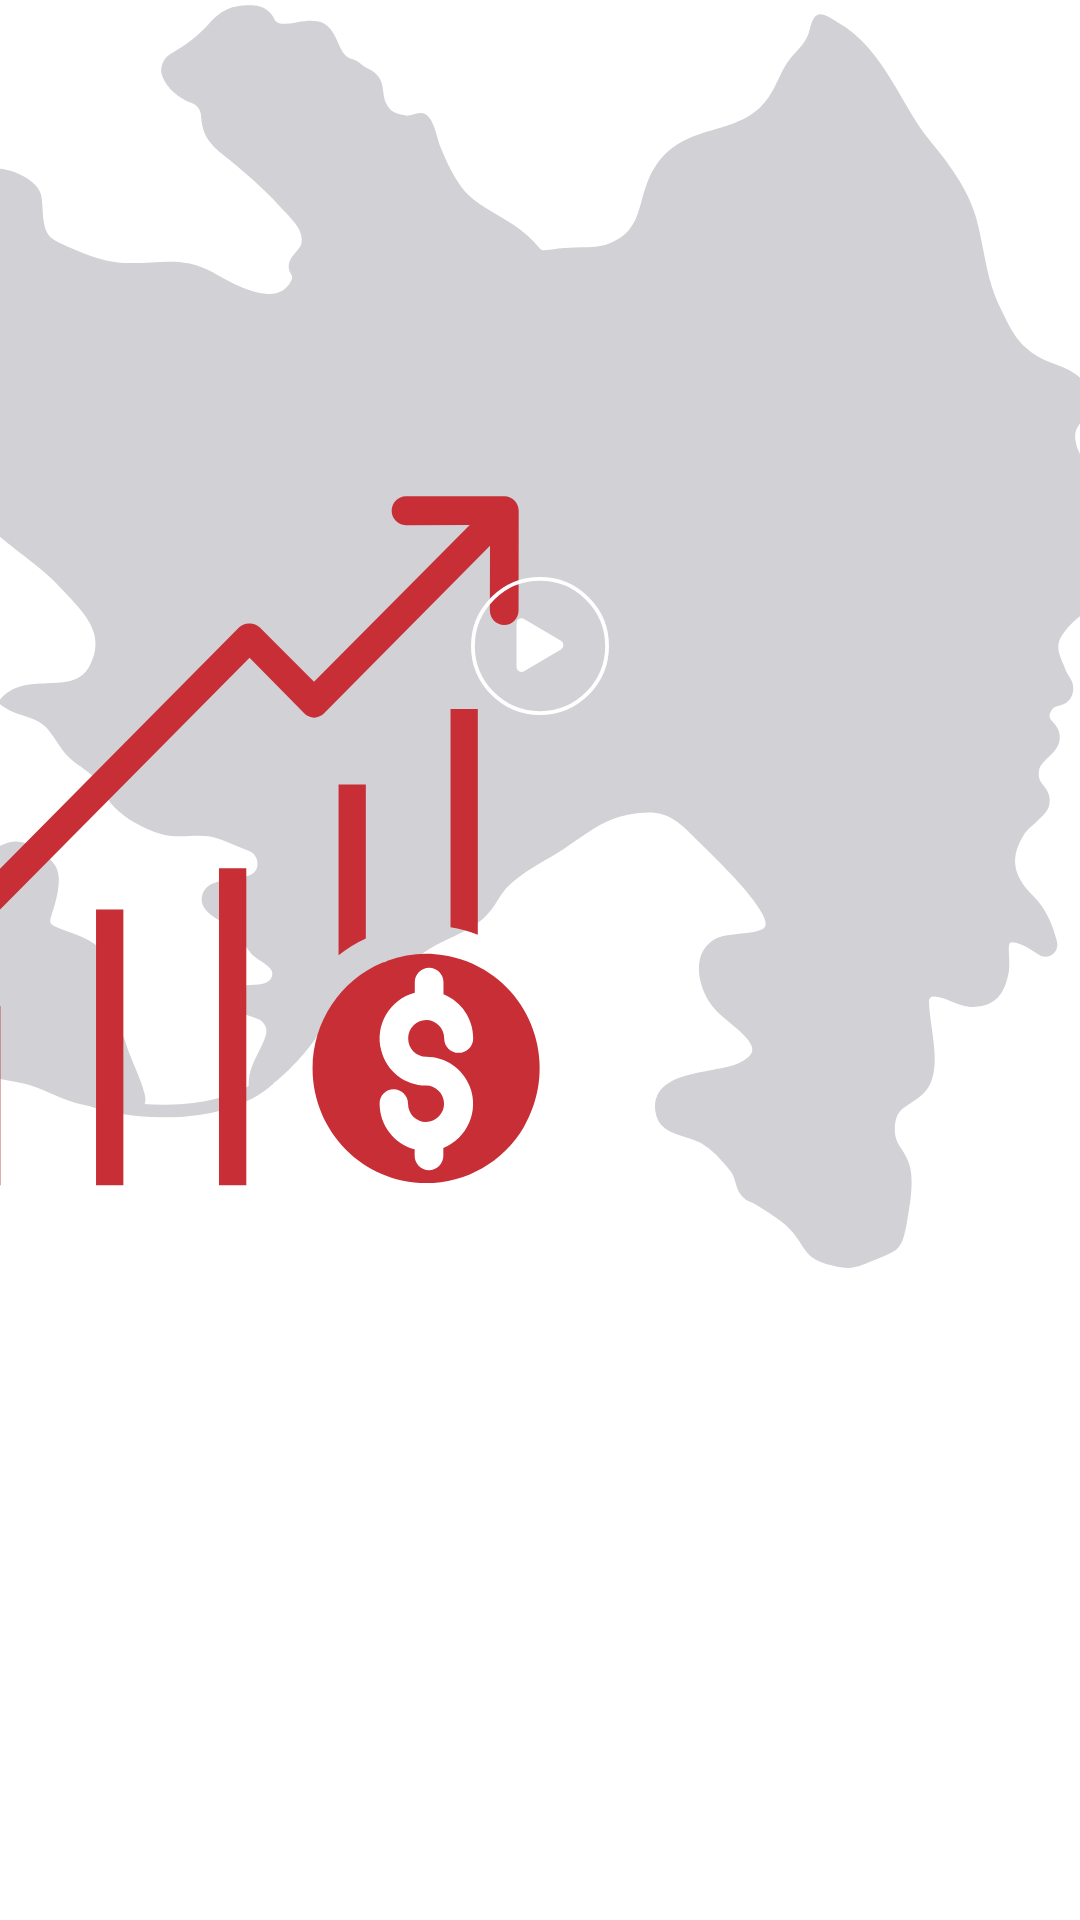

Icons on this 1080px x 1920px Android screen, each with the point to tap as (x=x, y=y):
video gallery image: (x=540, y=646)
